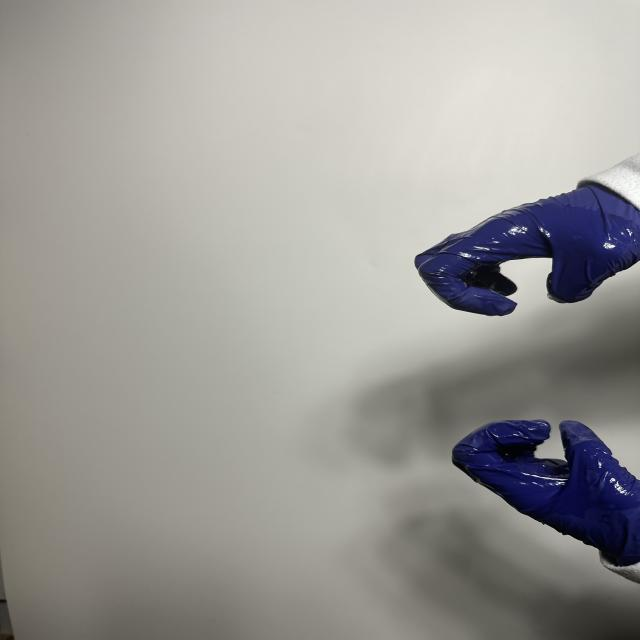gloves_contaminated: (415, 183, 640, 316), (452, 420, 640, 576)
